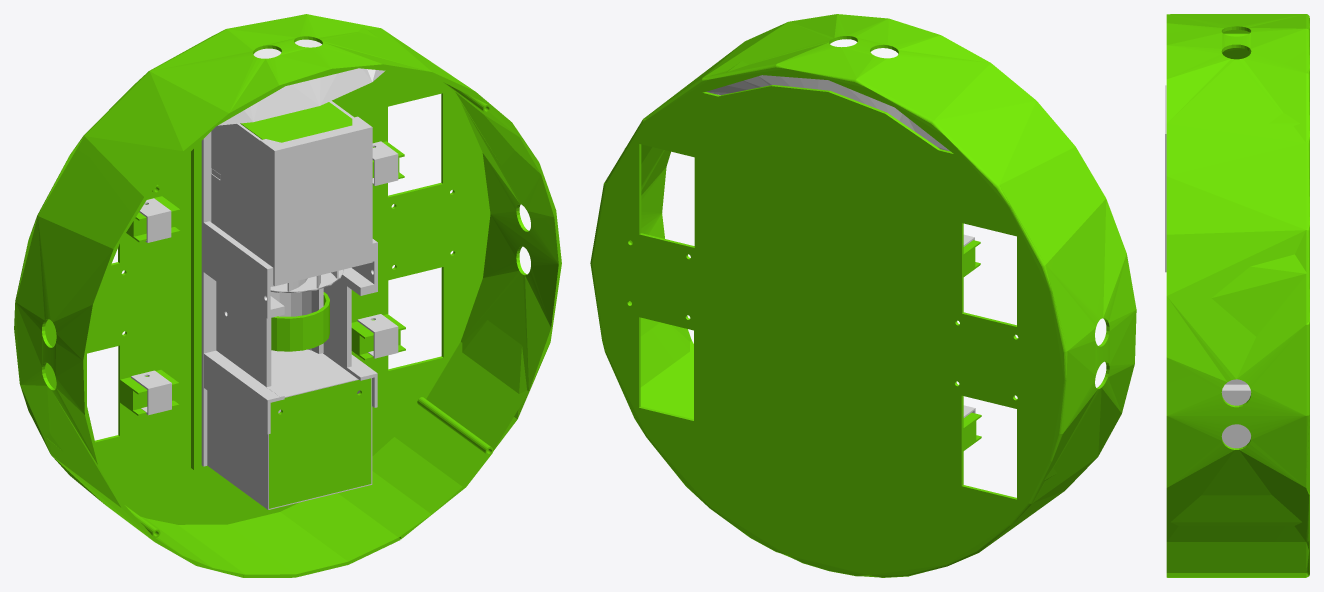
Rendered from vac.glb.
3 renders of one model, left to right at view 1: azimuth 30°, elevation 25°; view 2: azimuth 150°, elevation 25°; view 3: azimuth 270°, elevation 25°, orthographic. The views are drawn at different scales.
Visible parts, largest first — view 1: b_avc_rev_001_, b_inner_avc_001_, b_avc_dustbin_cover_001_, b_avc_nbattery_cover_001_, b_avc_back_cover_001_, b_avc_dustbin_front_001_, b_testavcmth_001_, b_avc_df_001_, b_avc_vac_bracket_001_, b_avc_motor_brackets_001_002, b_avc_motor_brackets_001_001, b_avc_motor_brackets_001_ (+2 smaller); view 2: b_avc_rev_001_, b_testavcmth_001_; view 3: b_avc_rev_001_, b_inner_avc_001_, b_avc_dustbin_cover_001_.
Part boxes in pixels (<box>): b_avc_rev_001_: <box>14,14,561,577</box>; b_inner_avc_001_: <box>201,131,377,509</box>; b_avc_dustbin_cover_001_: <box>260,116,372,286</box>; b_avc_nbattery_cover_001_: <box>269,378,371,508</box>; b_avc_back_cover_001_: <box>178,493,400,577</box>; b_avc_dustbin_front_001_: <box>211,101,353,264</box>; b_testavcmth_001_: <box>218,39,385,125</box>; b_avc_df_001_: <box>240,102,352,142</box>; b_avc_vac_bracket_001_: <box>271,292,329,351</box>; b_avc_motor_brackets_001_002: <box>357,314,398,358</box>; b_avc_motor_brackets_001_001: <box>131,370,171,415</box>; b_avc_motor_brackets_001_: <box>139,198,171,242</box>; b_avc_rev_001_: <box>590,14,1136,577</box>; b_testavcmth_001_: <box>706,75,950,151</box>; b_avc_rev_001_: <box>1166,14,1309,577</box>; b_inner_avc_001_: <box>1221,379,1251,448</box>; b_avc_dustbin_cover_001_: <box>1165,85,1166,272</box>.
Bounding box in the file's own units: 304 × 304 × 77.91.
